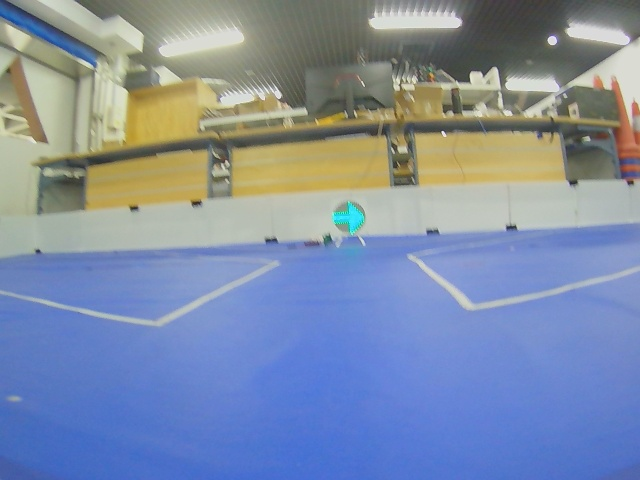right_green: (332, 201, 365, 235)
